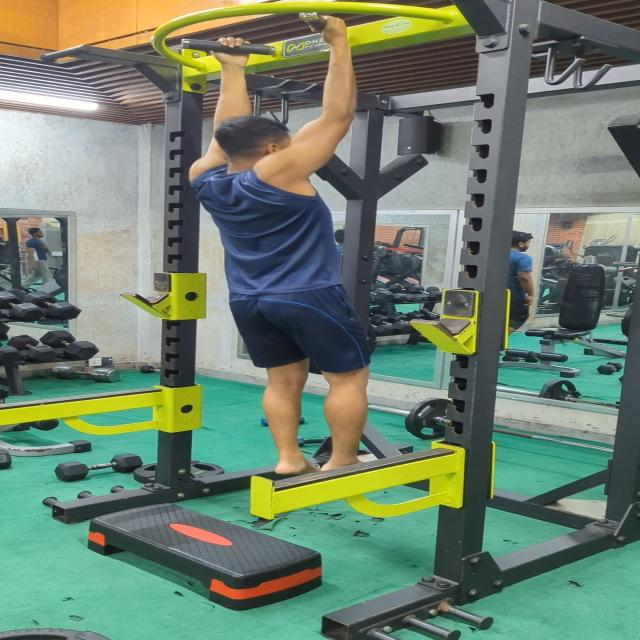Normal_PullUps: (178, 14, 380, 484)
